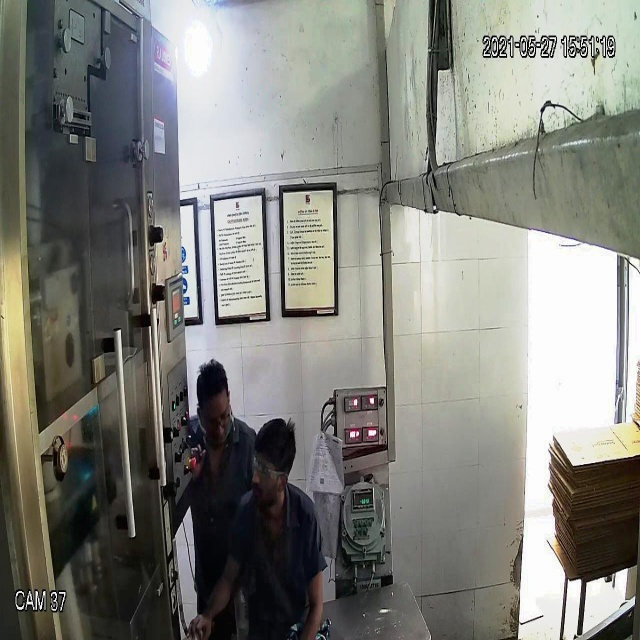Gafas: (247, 447, 292, 487)
